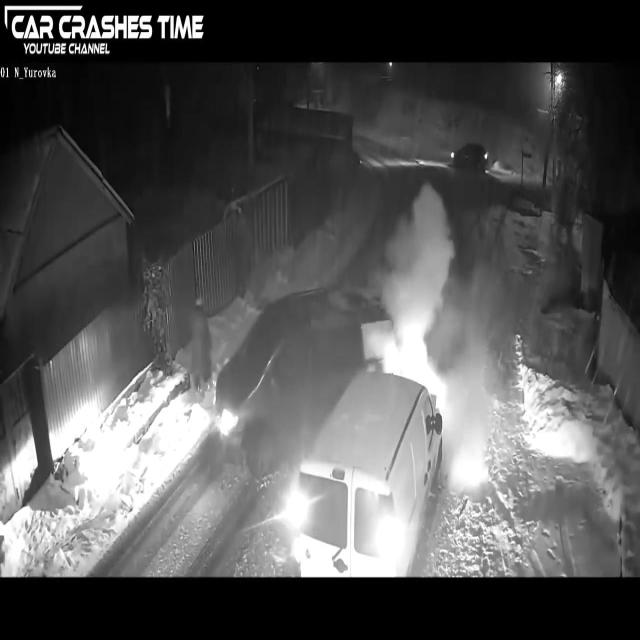accident: (213, 266, 451, 578)
